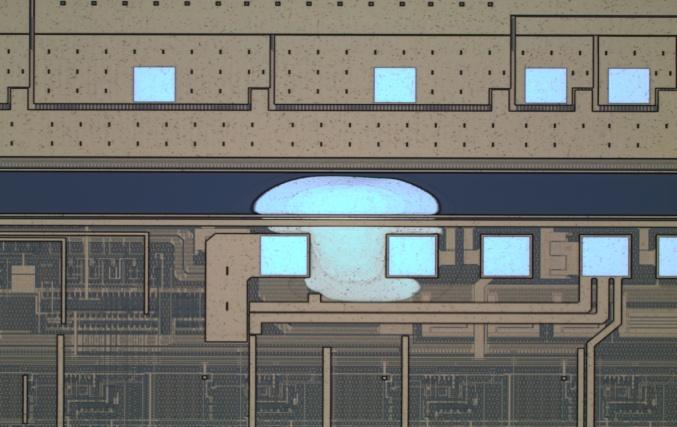BLOCK ETCH: (227, 173, 471, 307)
